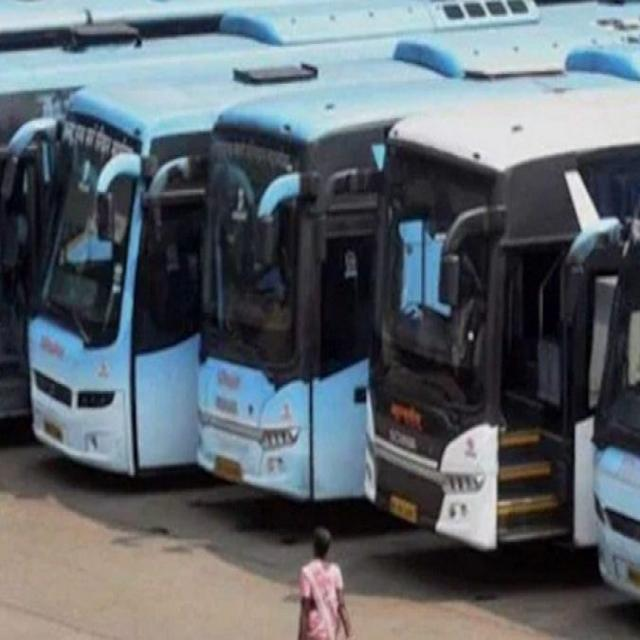BUS: (23, 64, 640, 404)
